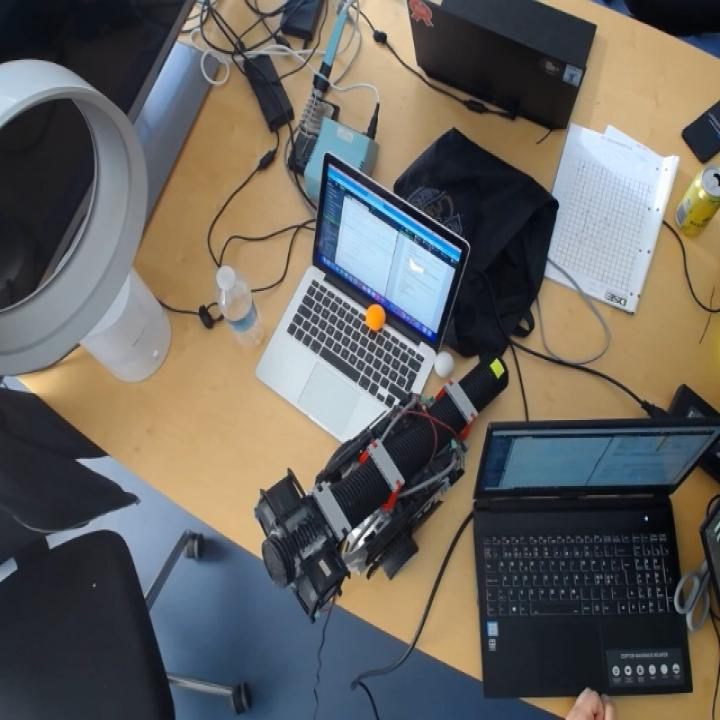orange: (366, 303, 385, 330)
robot: (254, 358, 510, 622)
robot-front: (463, 356, 508, 409)
white: (435, 350, 454, 379)
